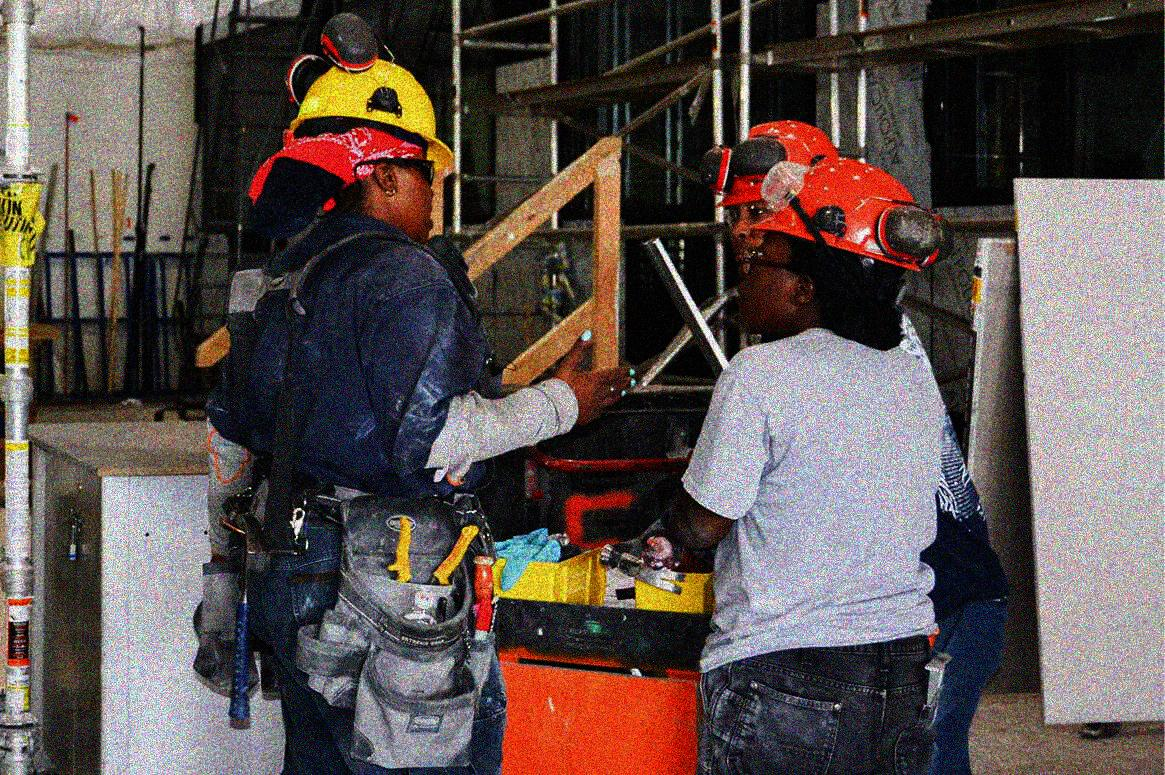helmet: (736, 151, 937, 350), (282, 57, 461, 248), (695, 117, 840, 280)
